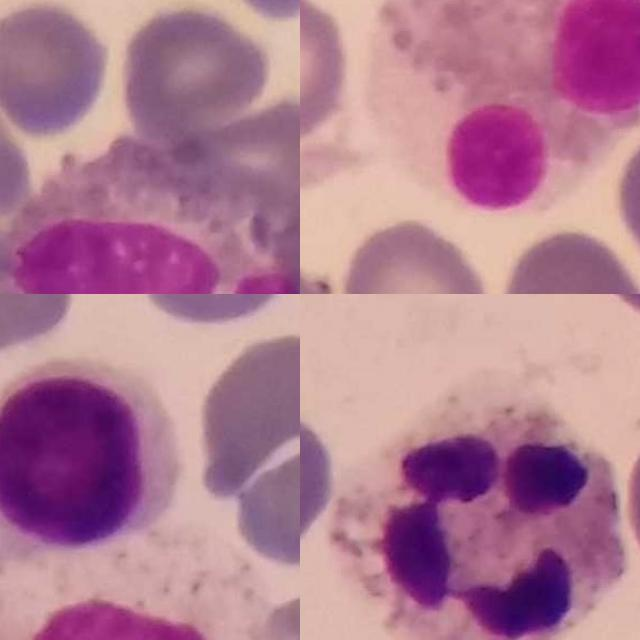Eosinophil: (358, 0, 640, 216), (0, 140, 300, 294)
Lymphocyte: (0, 359, 183, 553)
Monocyte: (0, 566, 252, 640)
Neutrophil: (335, 393, 625, 640)
